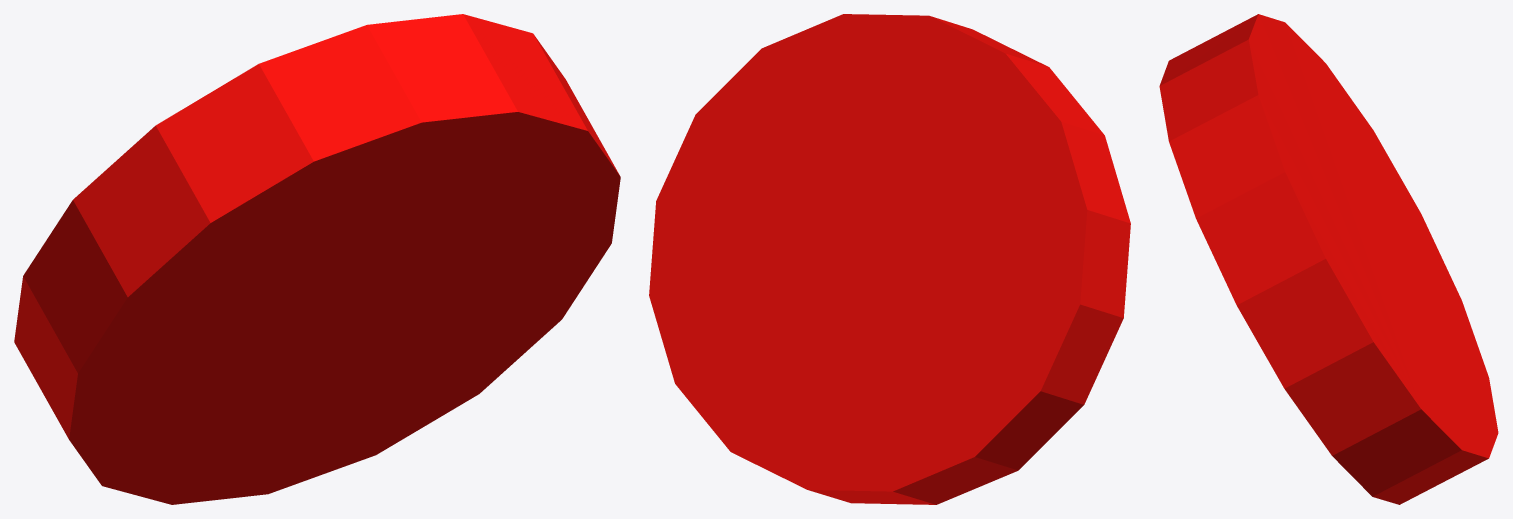
The model's file is dashboard_alarm.obj.
The picture shows the model from 3 angles, left to right: view 1: azimuth 30°, elevation 25°; view 2: azimuth 150°, elevation 25°; view 3: azimuth 270°, elevation 25°; orthographic projection. The views are drawn at different scales.
Parts seen in each view (by area): view 1: dashboard_alarm; view 2: dashboard_alarm; view 3: dashboard_alarm.
Boxes of the visible parts, x1,y1,x2,y2 form: dashboard_alarm: (14, 14, 620, 504); dashboard_alarm: (649, 14, 1130, 504); dashboard_alarm: (1159, 14, 1498, 504).
Bounding box in the file's own units: 0.017 × 0.0165 × 0.0115.
